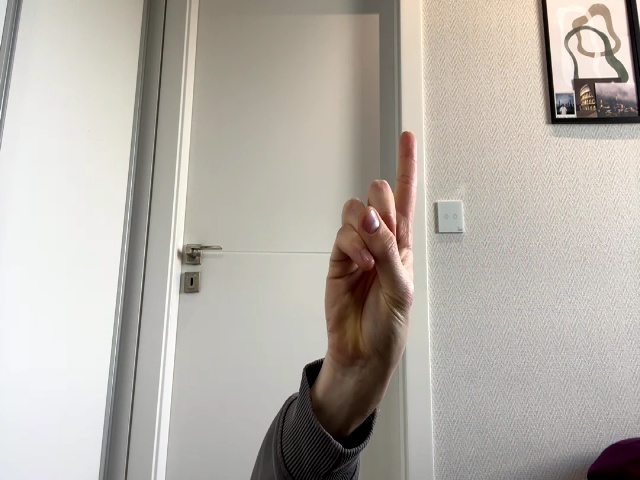Z: (324, 132, 417, 366)
